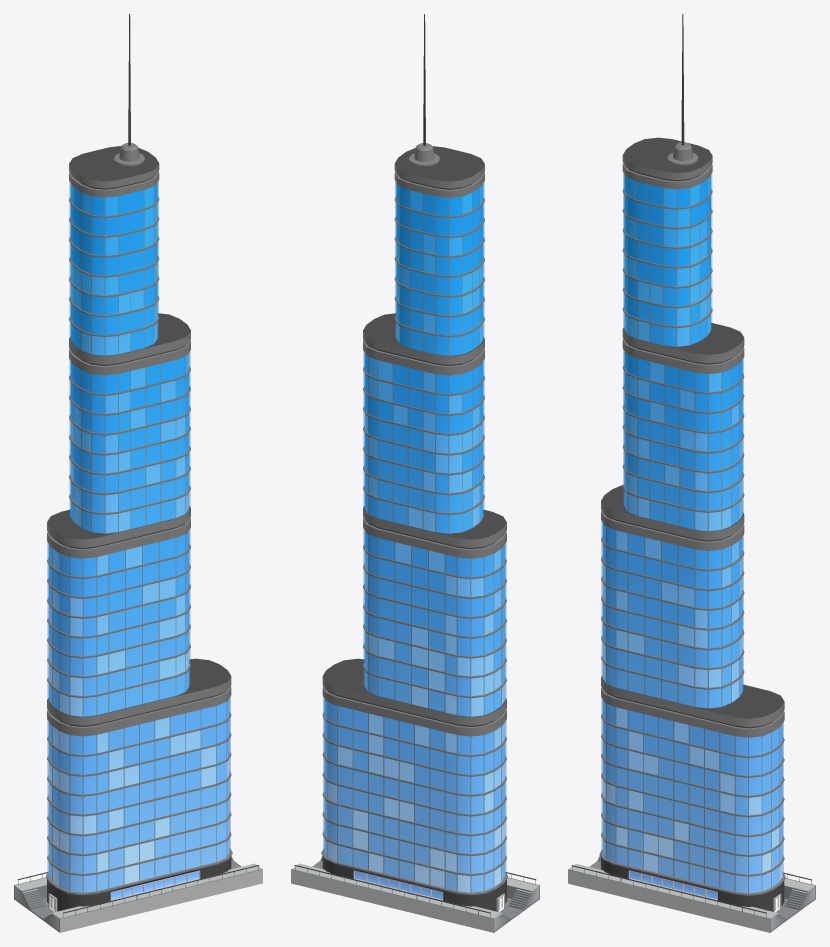
File: Building_Skyscraper_08.glb
The picture shows the model from 3 angles, left to right: view 1: azimuth 30°, elevation 25°; view 2: azimuth 150°, elevation 25°; view 3: azimuth 330°, elevation 25°; orthographic projection.
Parts seen in each view (by area): view 1: Building_Skyscraper_08; view 2: Building_Skyscraper_08; view 3: Building_Skyscraper_08.
Boxes of the visible parts, left/top/right/bottom form: Building_Skyscraper_08: left=14, top=14, right=262, bottom=932; Building_Skyscraper_08: left=291, top=14, right=539, bottom=932; Building_Skyscraper_08: left=568, top=14, right=815, bottom=932.
Size of the model in its own units: 33.6 by 139 by 13.21.
2 materials, 2 textured.
